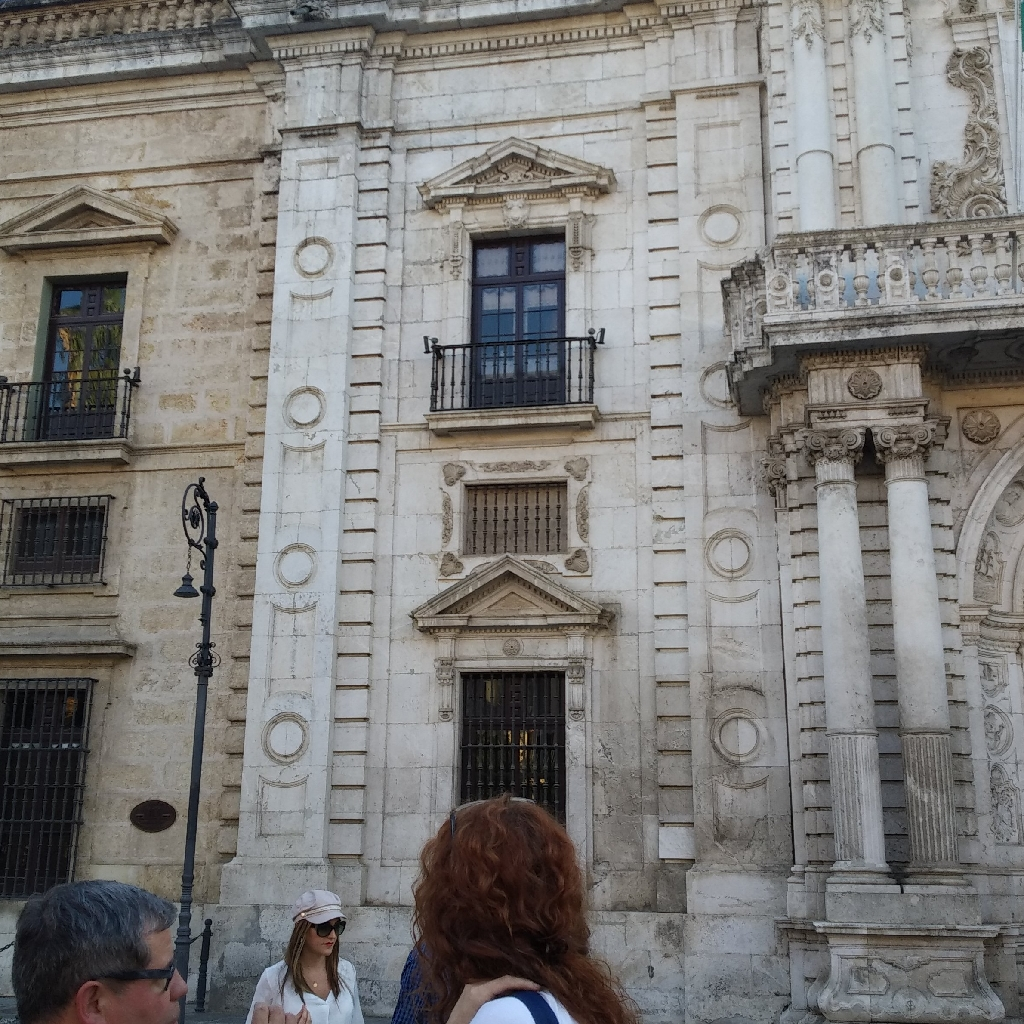fronton: (408, 553, 608, 629), (407, 132, 622, 197), (1, 179, 180, 255)
vano-adintelado: (431, 649, 600, 855), (443, 210, 597, 407), (11, 253, 152, 453)
